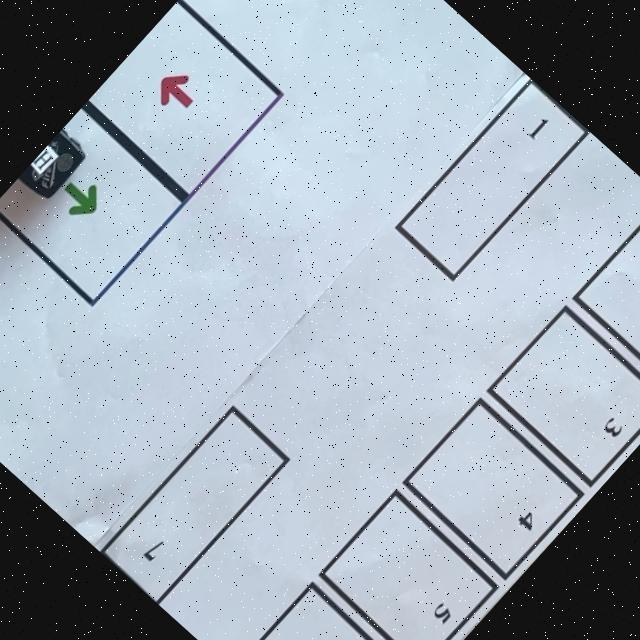car: (17, 131, 84, 198)
